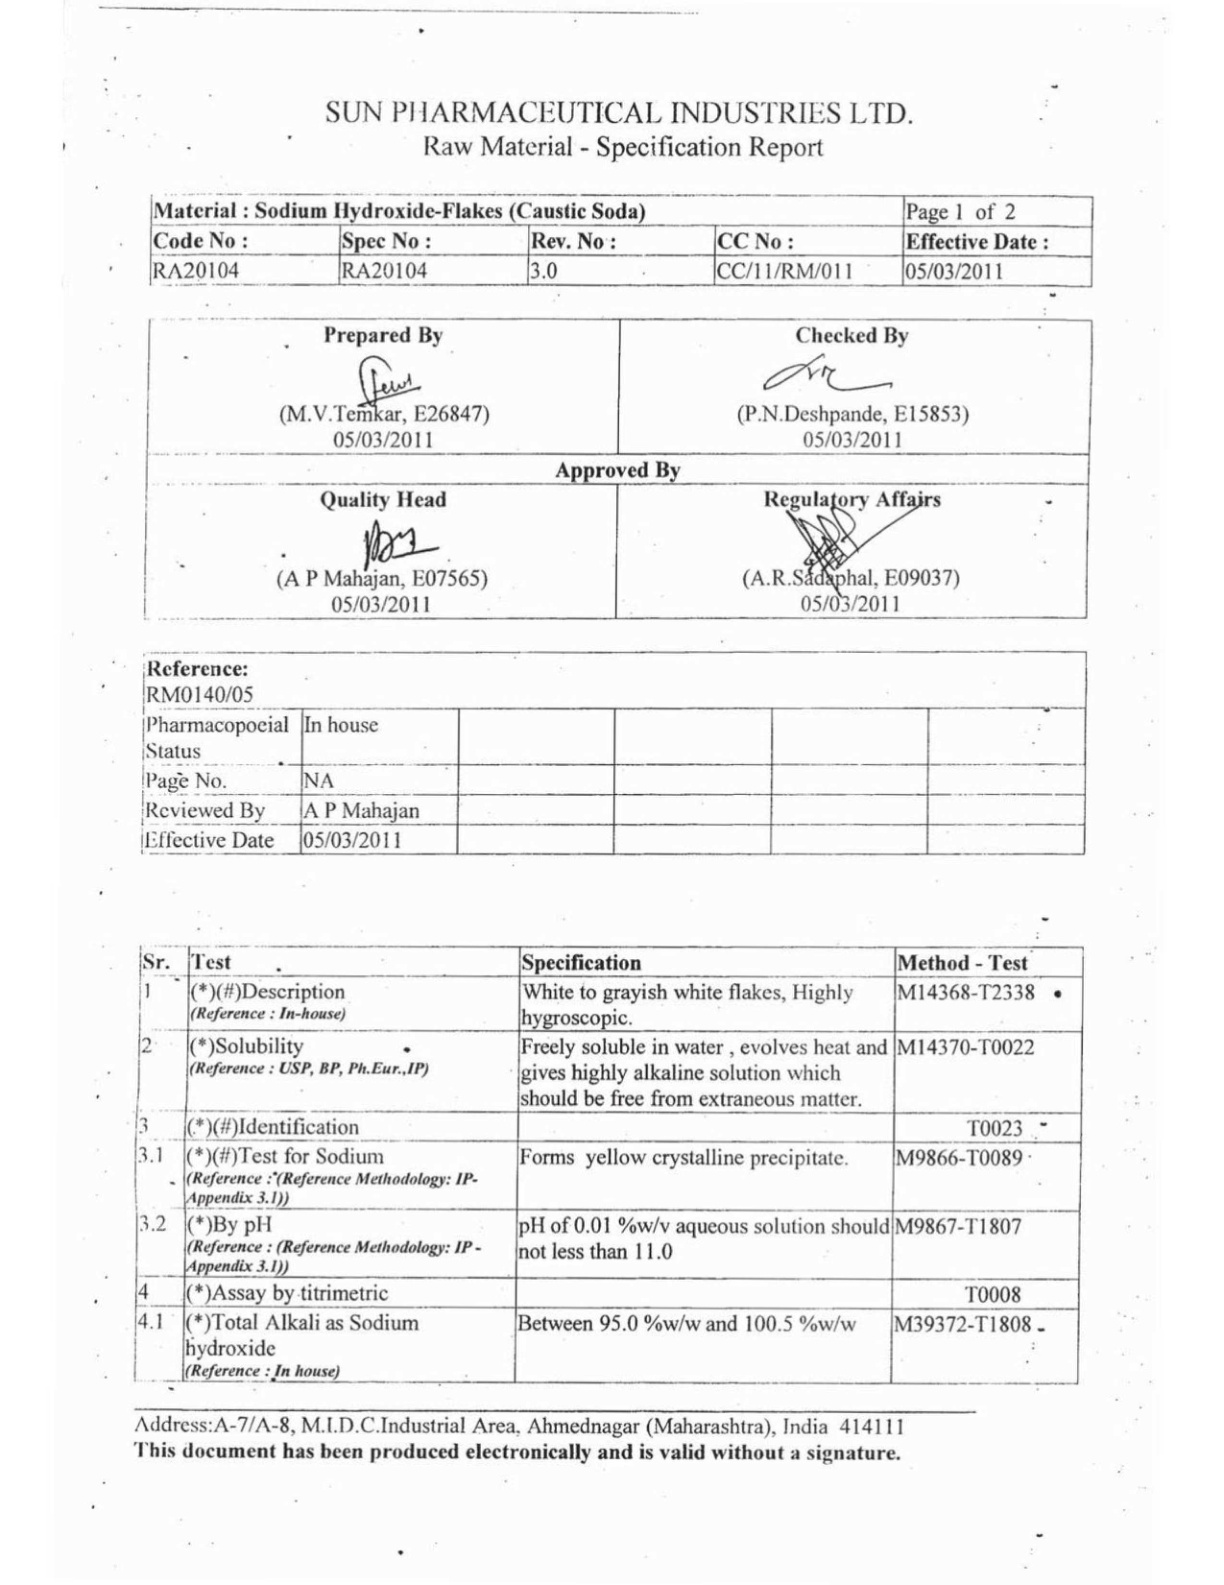full_lined: (132, 944, 1084, 1384)
merged_cells: (140, 650, 1088, 856), (149, 192, 1094, 288)
partial_lined_merged_cells: (141, 318, 1094, 621)
